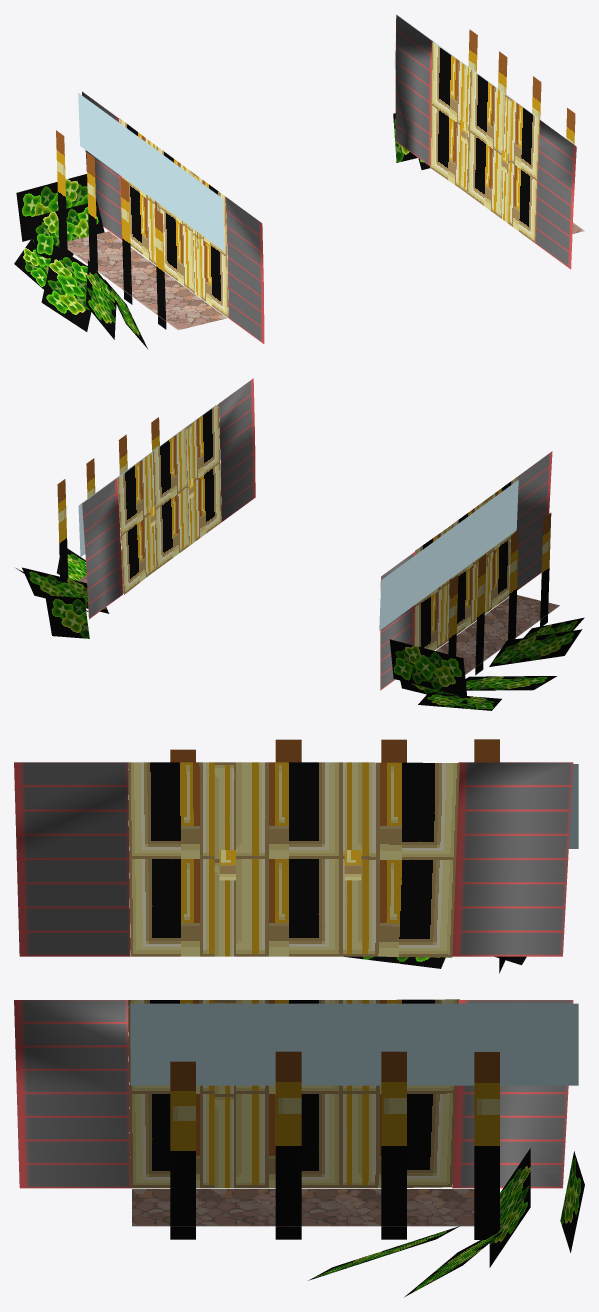
3 views of the same model, one above another, from view 1: azimuth 30°, elevation 25°; view 2: azimuth 150°, elevation 25°; view 3: azimuth 270°, elevation 25° (orthographic). The views are drawn at different scales.
Parts seen in each view (by area): view 1: m00_kb5; view 2: m00_kb5; view 3: m00_kb5.
Part boxes in pixels (left/top/right/bottom): m00_kb5: left=14, top=14, right=584, bottom=348; m00_kb5: left=16, top=378, right=584, bottom=710; m00_kb5: left=14, top=739, right=584, bottom=1297.
Size of the model in its own units: 9.07 by 2.61 by 5.41.
5 materials, 5 textured.
